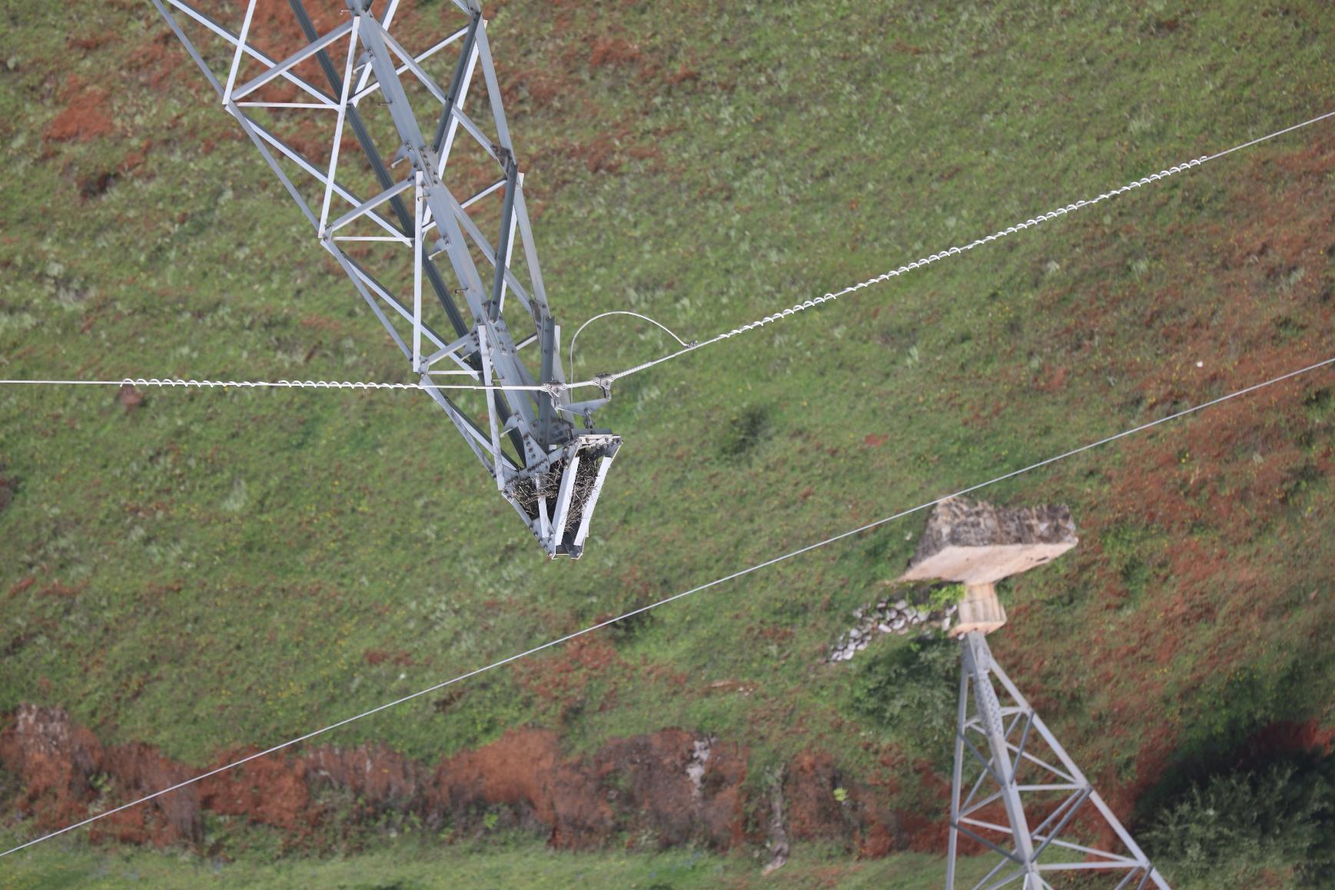nest: (511, 451, 600, 532)
